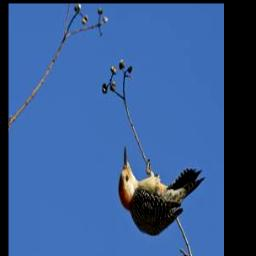Woodpecker: (110, 141, 207, 237)
